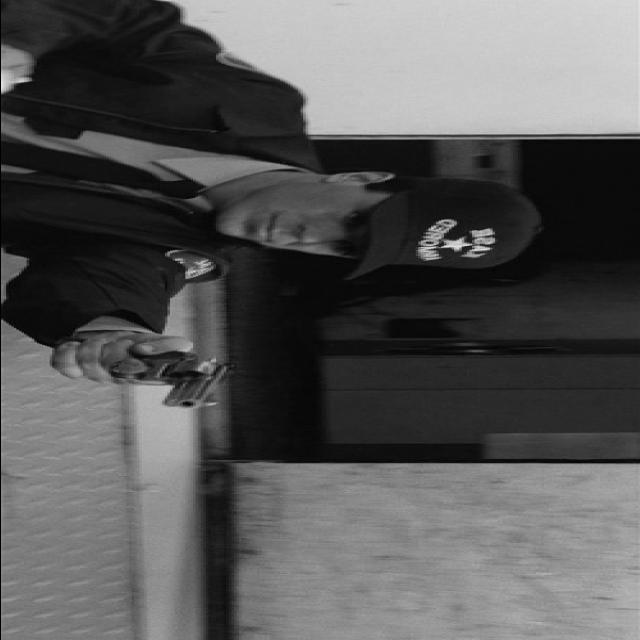weapons: (66, 334, 256, 426)
